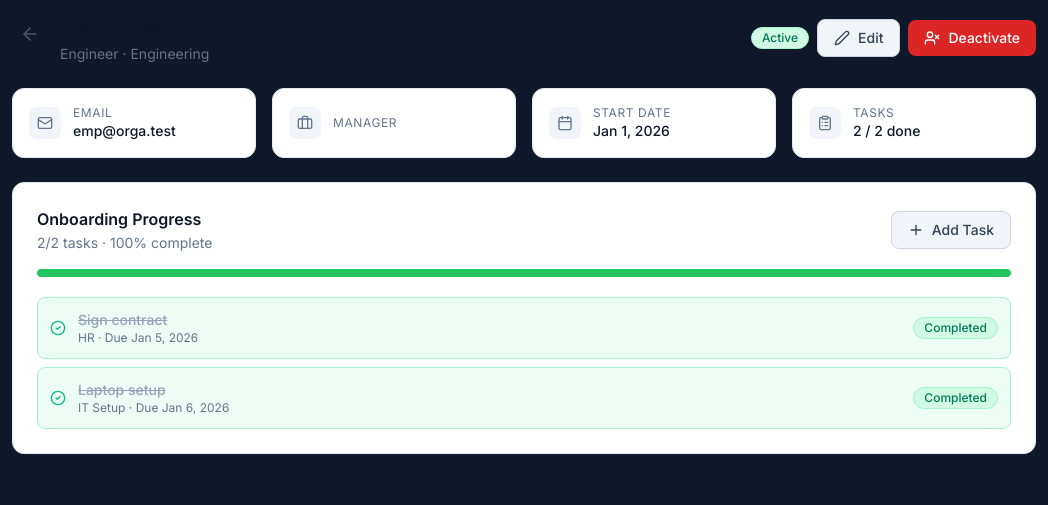
Test: EmployeeDetailPage — Add Task after onboarding completion › opens the modal and submits the new task with the entered fields
The image size is (1048, 505).
Click the button "Add Task" at (951,230), box [891,211,1011,249]
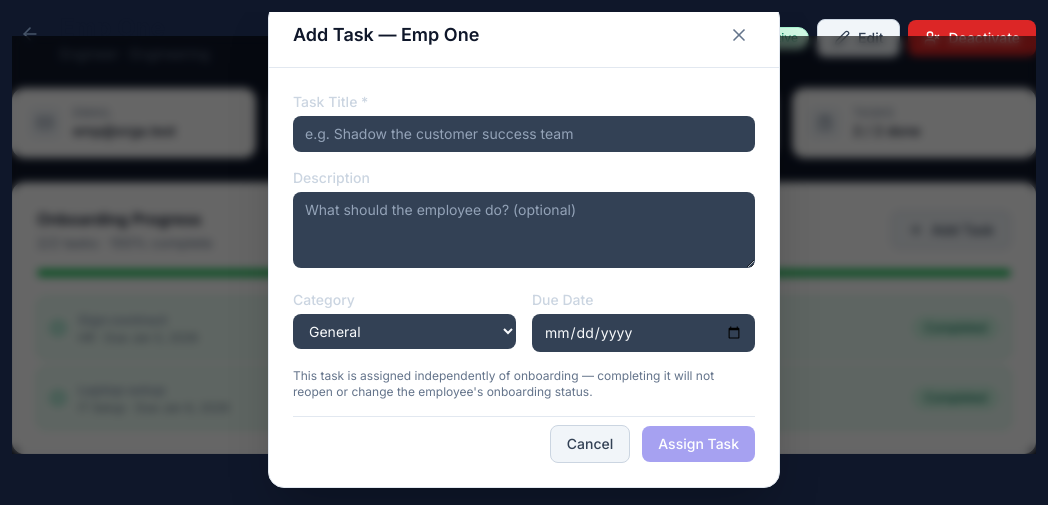
Now the heading "Add Task — Emp One" is shown, box [293,21,479,49]
Now the button "Assign Task" is disabled, box [642,426,755,462]
Type "Security awareness training" into the field with placeholder "e.g. Shadow the customer success team" at (524,134), box [293,116,755,152]
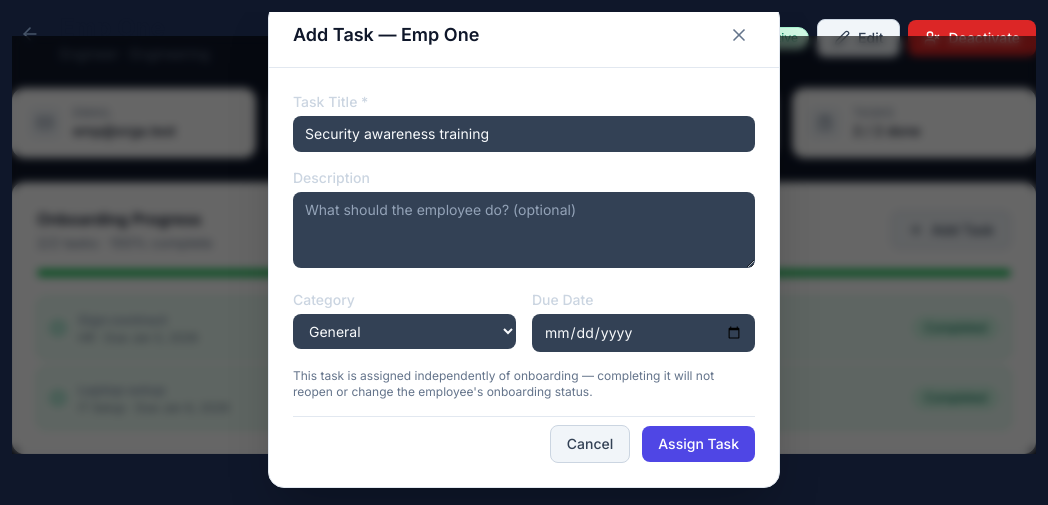
Type "Complete the annual training module." into the text box with placeholder "What should the employee do? (optional)" at (524,230), box [293,192,755,268]
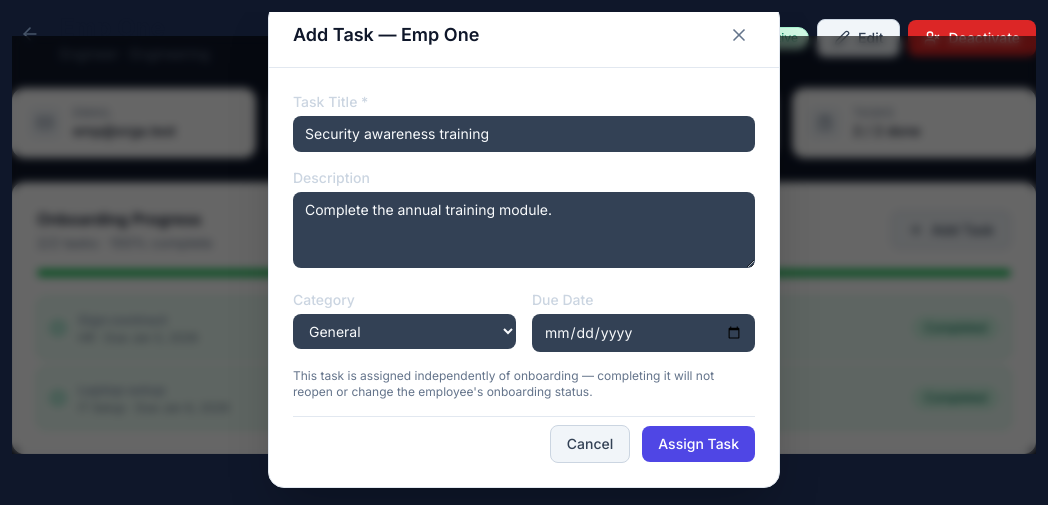
Type "2026-12-01" into the date field at (644,333), box [532,314,755,352]
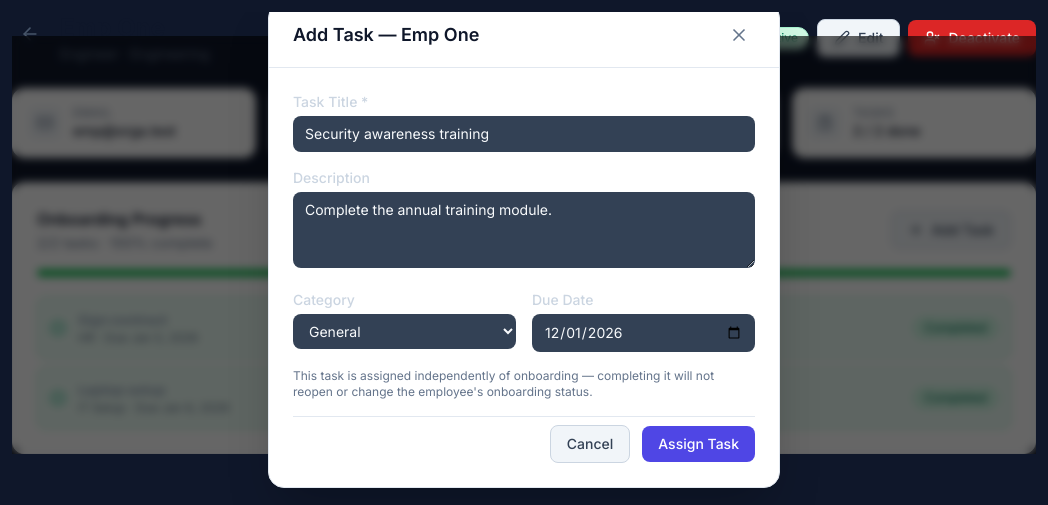
Now the button "Assign Task" is enabled
Click the button "Assign Task" at (699,444), box [642,426,755,462]
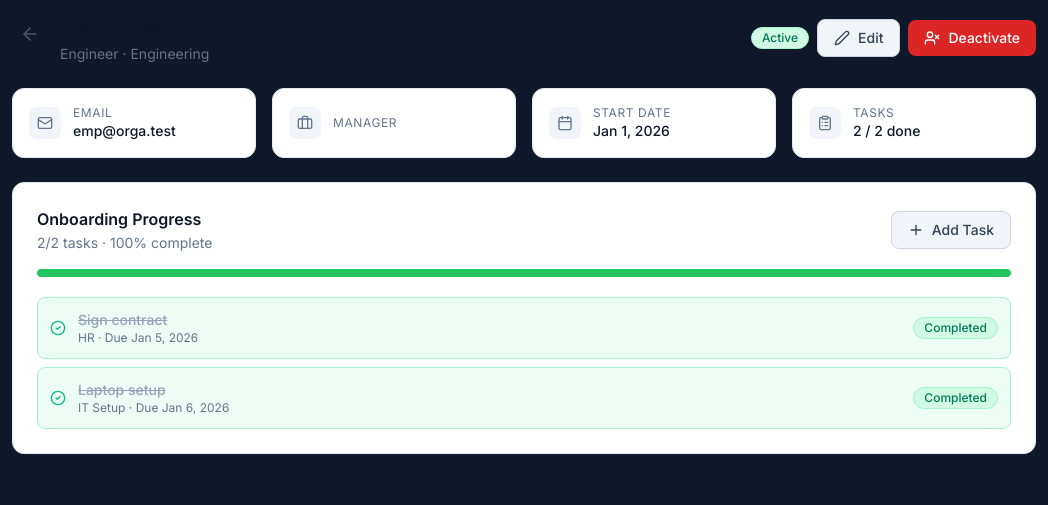
Now the heading "Add Task — Emp One" is gone
